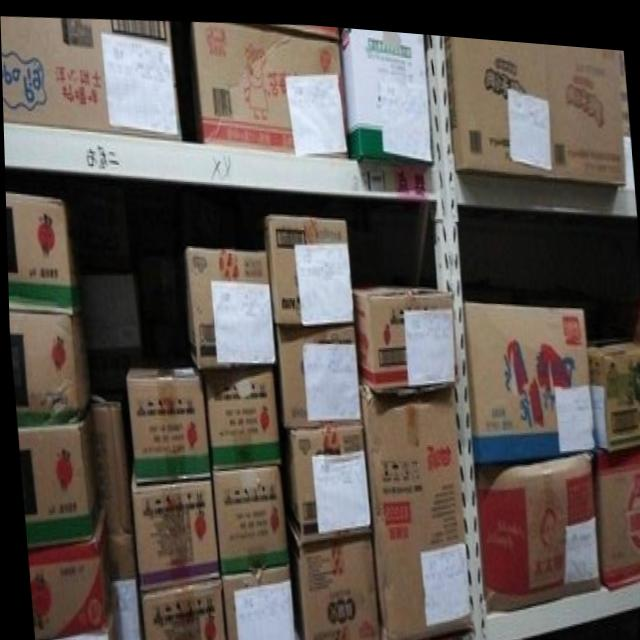box: (357, 381, 468, 640), (443, 28, 625, 173), (0, 16, 180, 138), (185, 21, 347, 153), (461, 293, 593, 453), (472, 444, 598, 605), (341, 22, 432, 158), (128, 462, 217, 592), (179, 245, 273, 367), (350, 277, 453, 388), (15, 410, 96, 551), (278, 420, 369, 539), (25, 511, 106, 640), (258, 210, 352, 319), (125, 360, 208, 481), (288, 533, 379, 640), (271, 318, 361, 423), (4, 190, 80, 314), (7, 311, 88, 427), (208, 464, 289, 570), (78, 268, 142, 400), (199, 365, 279, 465), (590, 435, 640, 579), (586, 329, 640, 444), (85, 398, 132, 530), (217, 562, 292, 640), (137, 572, 222, 640), (101, 528, 140, 640), (33, 613, 110, 640), (233, 21, 341, 35), (619, 40, 630, 124)
